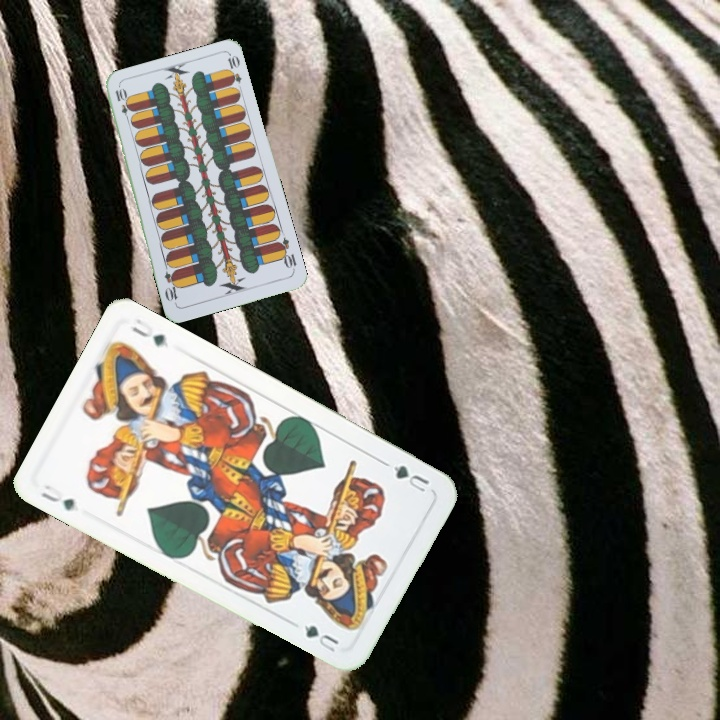E10: (273, 234, 299, 274), (111, 84, 133, 125)
GU: (389, 461, 432, 497), (36, 480, 78, 513)
